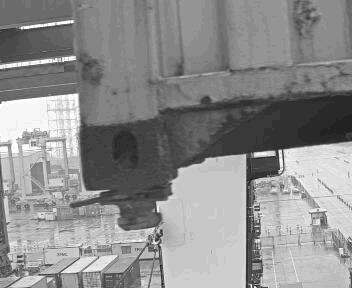twist_lock_1: (67, 134, 107, 174)
